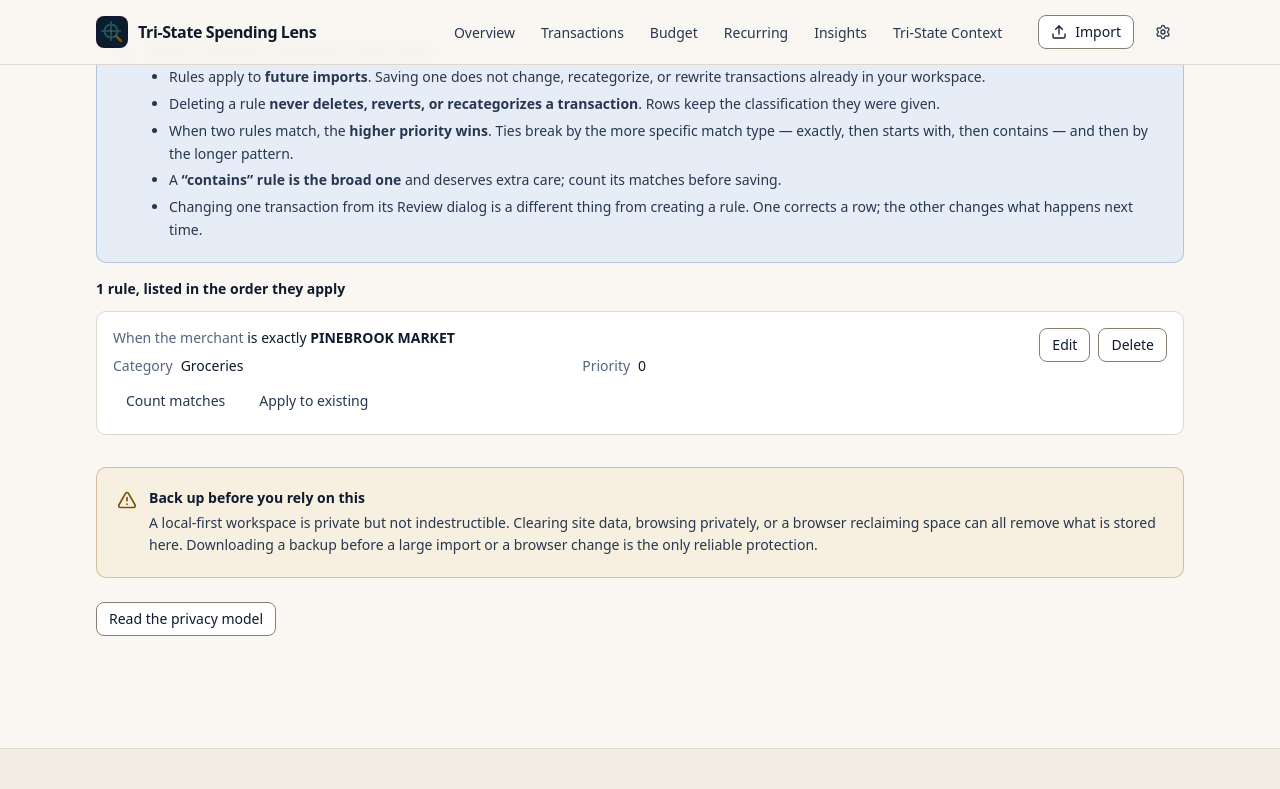
listing and pagination › counts matching stored transactions without changing them
(page scrolled)
Expected: the text "1 rule, listed in the order they apply" is shown, [96,278,345,298]
Click the button with aria-label "count transactions matching" at (176, 400), box [113,384,238,418]
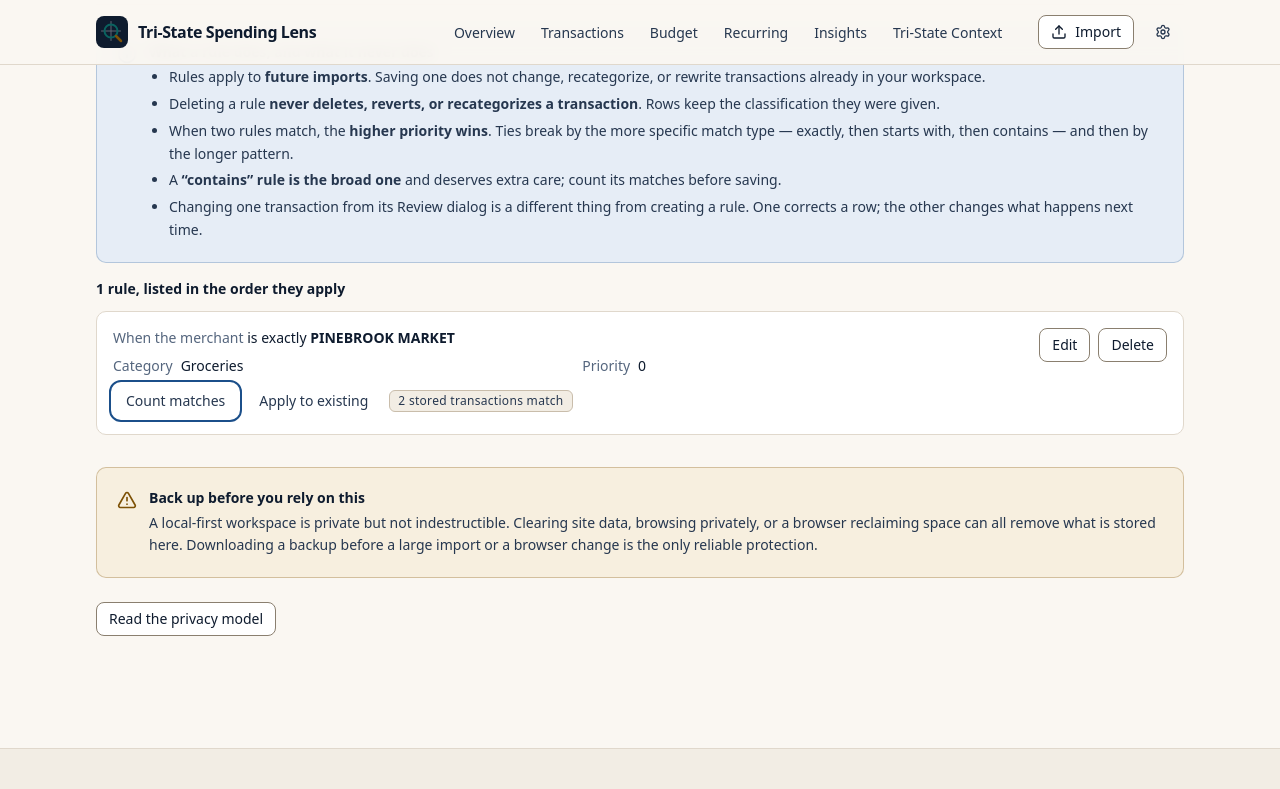
Now the text "2 stored transactions match" is shown, box [389,390,573,412]
